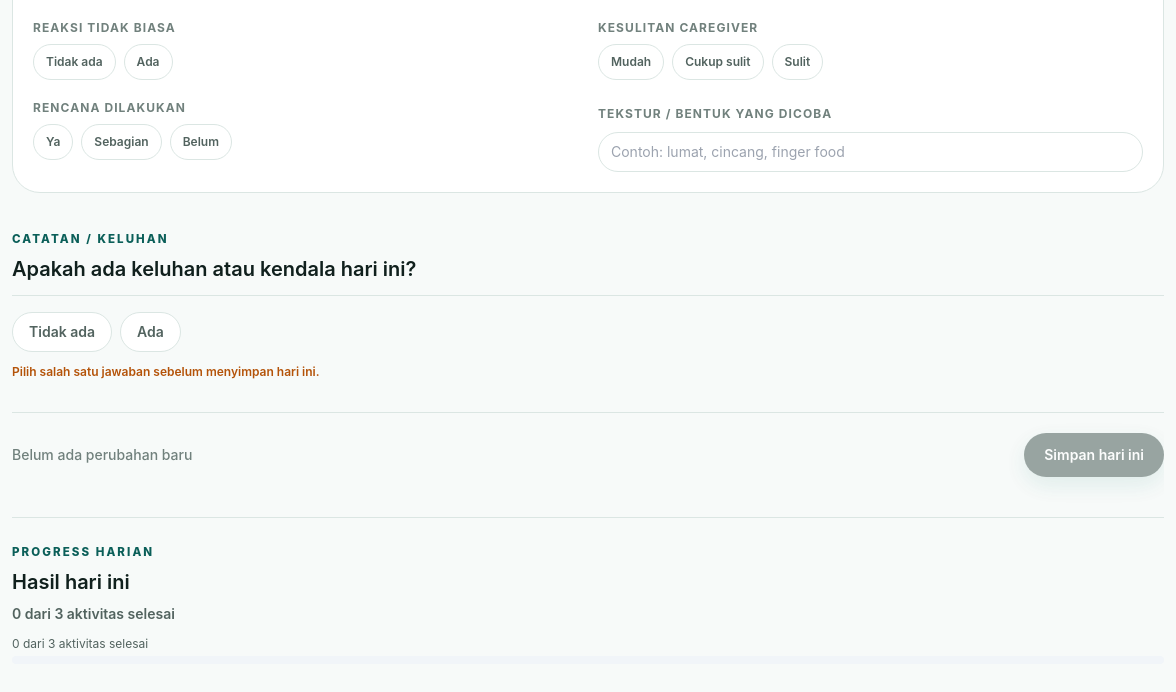
Test: nutrition guided program UX/state › shows complaint notes only when the user reports a problem
(page scrolled)
Expected: the heading "Apakah ada keluhan atau kendala hari ini?" is shown, [12,257,416,281]
Expected: the field labelled "Ceritakan keluhan atau kendalanya" is not shown
Click the button with aria-label "Ada keluhan".
click(150, 332)  # box [120,312,181,352]
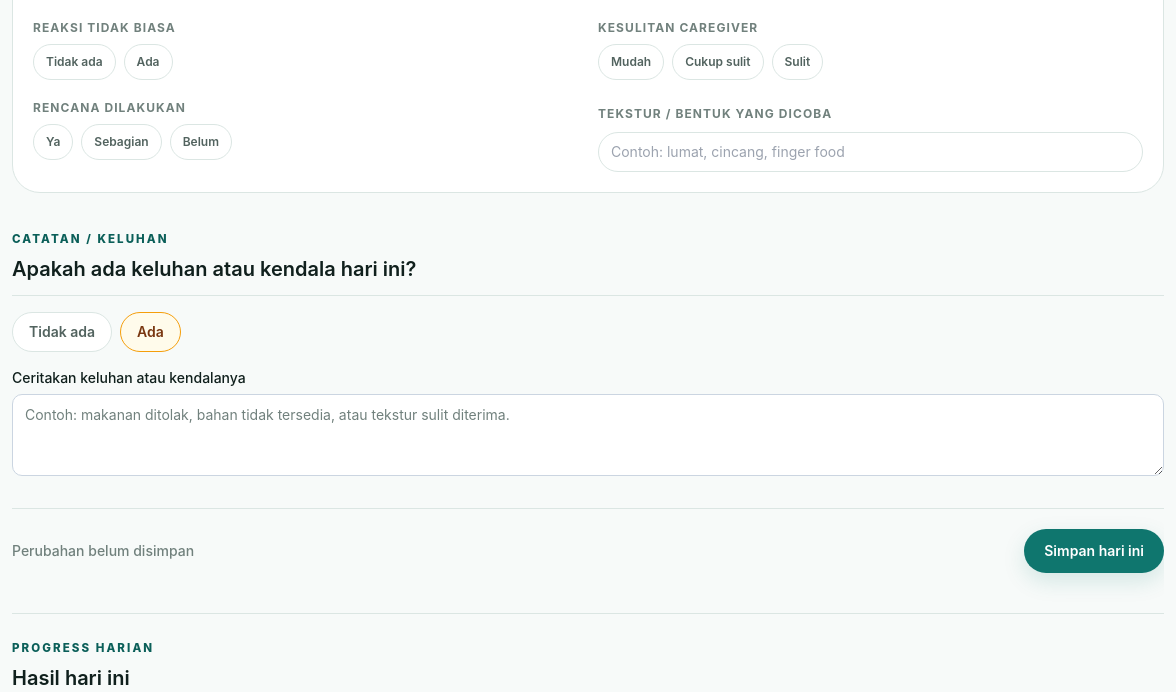
Now the text box labelled "Ceritakan keluhan atau kendalanya" is shown, box [12,394,1164,476]
Click the button with aria-label "Tidak ada keluhan".
click(62, 332)  # box [12,312,112,352]
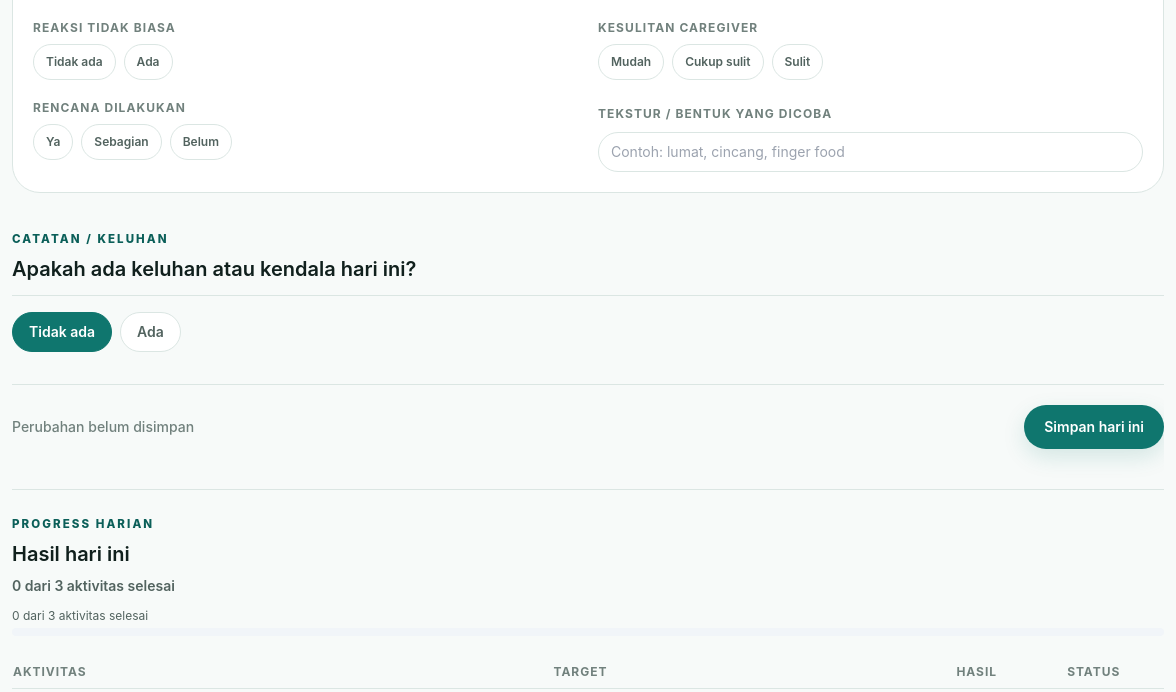
Now the label labelled "Ceritakan keluhan atau kendalanya" is gone
